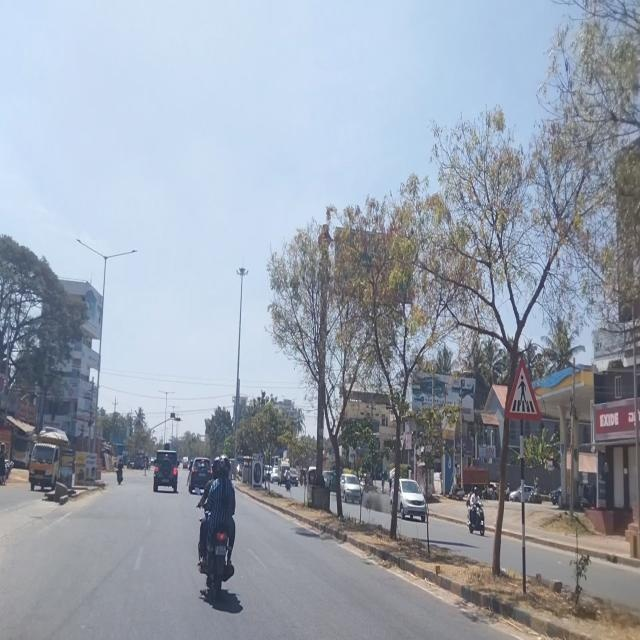bien_nguy_hiem: (504, 354, 543, 424)
